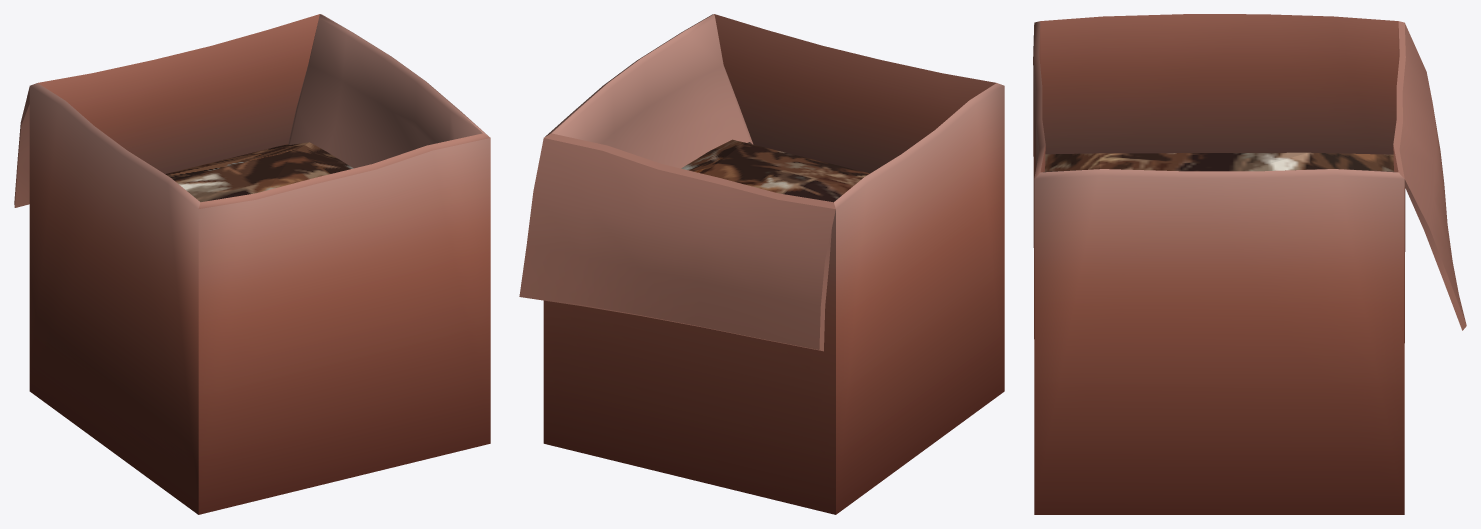
Rendered from Trash_011.glb.
The picture shows the model from 3 angles, left to right: view 1: azimuth 30°, elevation 25°; view 2: azimuth 150°, elevation 25°; view 3: azimuth 270°, elevation 25°; orthographic projection. The views are drawn at different scales.
Visible parts, largest first — view 1: Trash_011; view 2: Trash_011; view 3: Trash_011.
Boxes of the visible parts, x1,y1,x2,y2 form: Trash_011: (14, 14, 490, 514); Trash_011: (519, 14, 1004, 514); Trash_011: (1033, 14, 1466, 514).
Size of the model in its own units: 0.2856 by 0.2815 by 0.3217.
2 materials, 2 textured.
